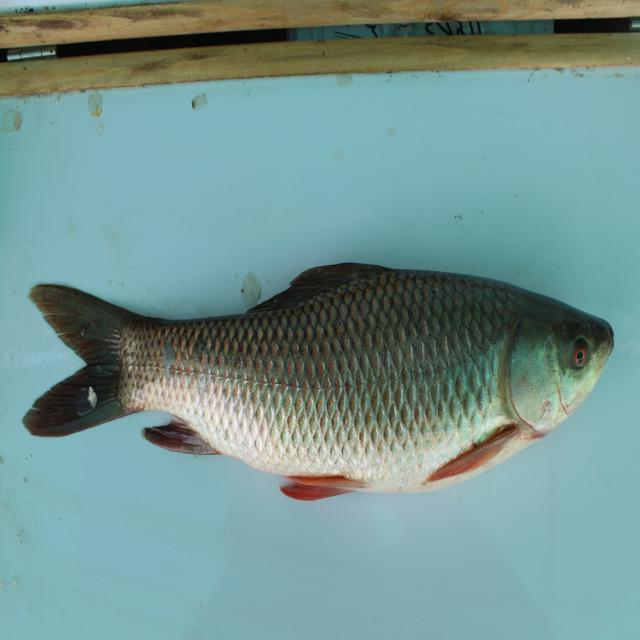Rohu: (29, 263, 615, 505)
